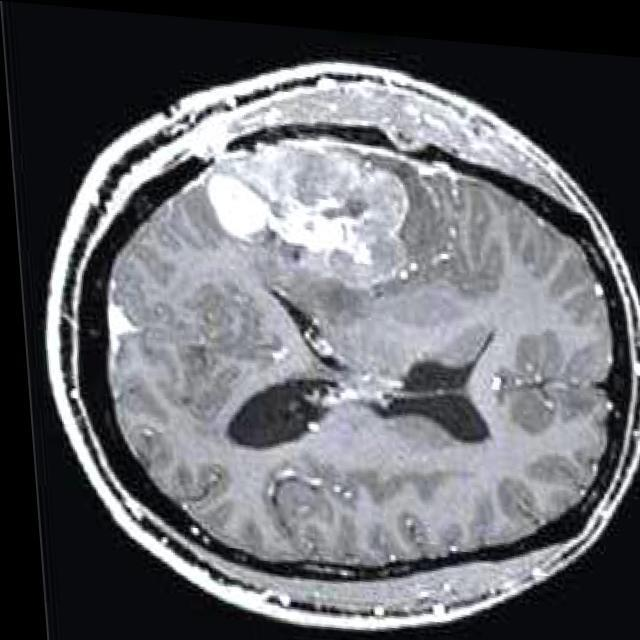Tumor: (206, 132, 407, 278)
